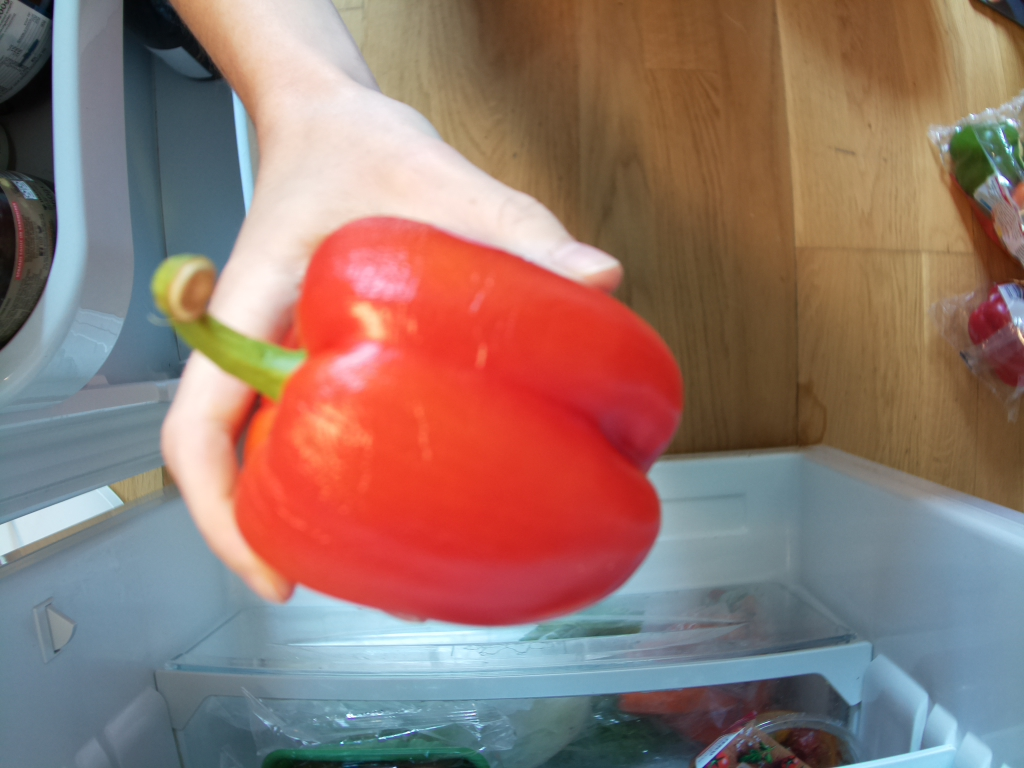pepper-bad: (143, 207, 694, 630)
